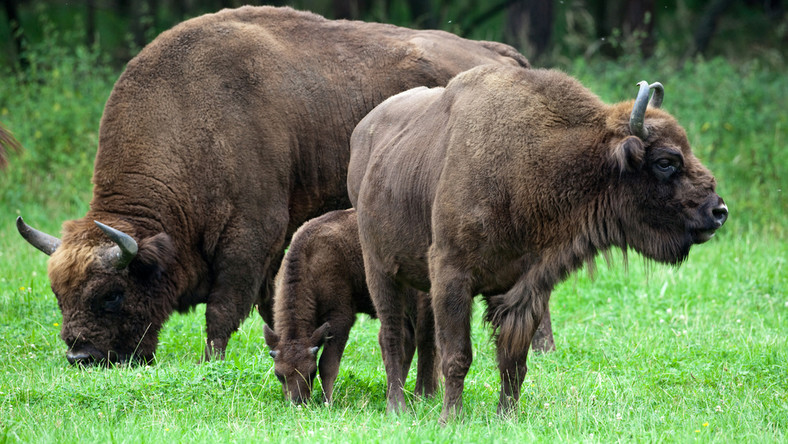zubr: (325, 48, 752, 444), (10, 9, 276, 412), (251, 197, 382, 418)
